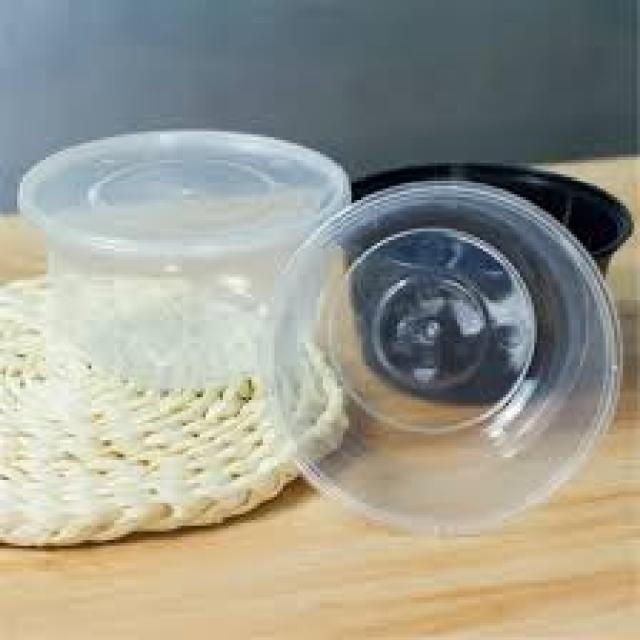disposable: (11, 114, 384, 395)
